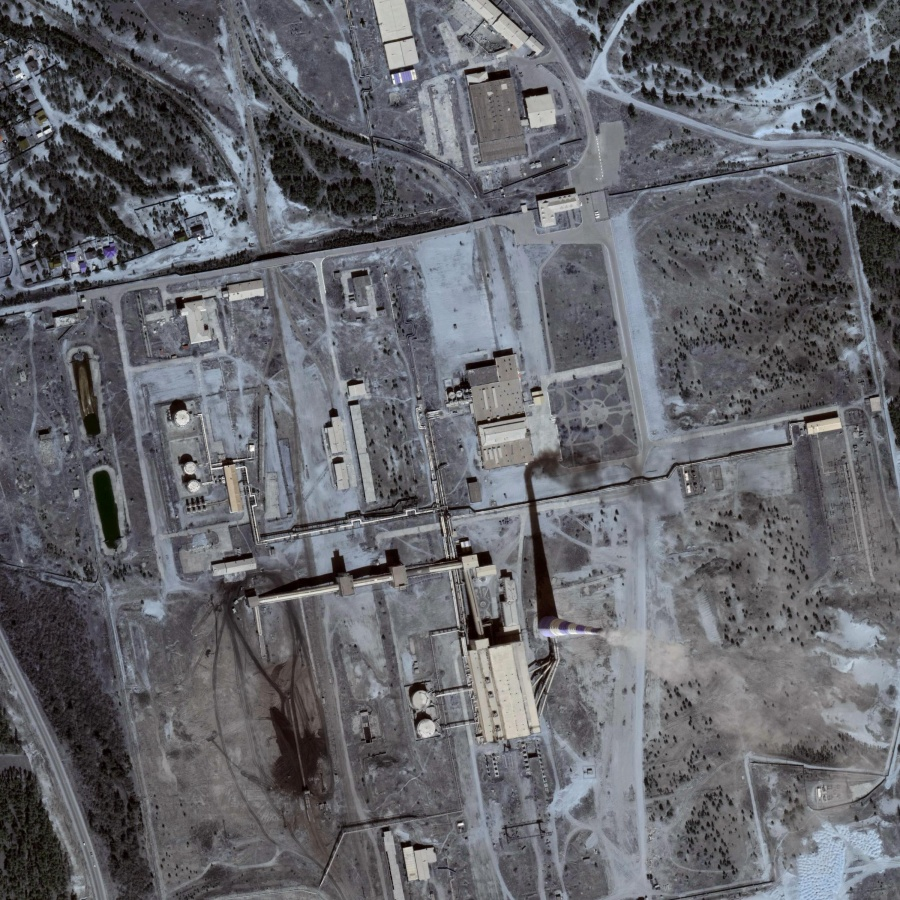PowerPlant: (149, 386, 627, 814)
